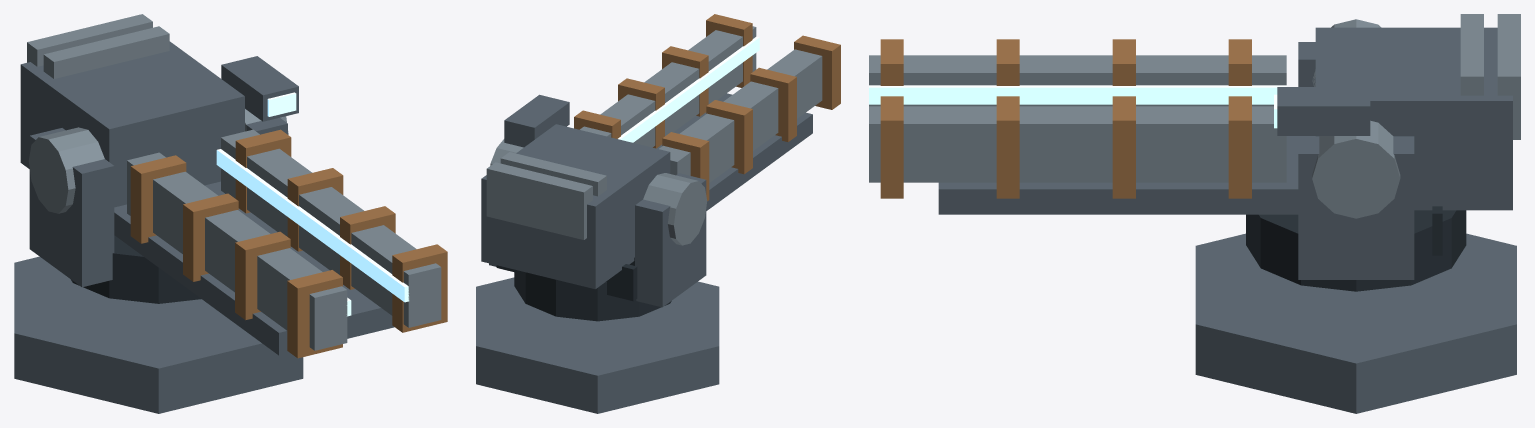
Rendered from railgun_t1_d0.meshopt.glb.
3 views of the same model, side by side, from view 1: azimuth 30°, elevation 25°; view 2: azimuth 150°, elevation 25°; view 3: azimuth 270°, elevation 25° (orthographic). The views are drawn at different scales.
Visible parts, largest first — view 1: RECOIL_ARMOR_GEOMETRY, BASE_ARMOR_GEOMETRY, YAW_ARMOR_GEOMETRY, RECOIL_SIGNAL_GEOMETRY; view 2: RECOIL_ARMOR_GEOMETRY, BASE_ARMOR_GEOMETRY, YAW_ARMOR_GEOMETRY, RECOIL_SIGNAL_GEOMETRY; view 3: RECOIL_ARMOR_GEOMETRY, BASE_ARMOR_GEOMETRY, YAW_ARMOR_GEOMETRY, RECOIL_SIGNAL_GEOMETRY.
Part boxes in pixels (x1,y1,x2,y2): RECOIL_ARMOR_GEOMETRY: (20,14,447,358); BASE_ARMOR_GEOMETRY: (14,256,303,413); YAW_ARMOR_GEOMETRY: (29,117,287,303); RECOIL_SIGNAL_GEOMETRY: (216,92,409,316); RECOIL_ARMOR_GEOMETRY: (481,14,840,301); BASE_ARMOR_GEOMETRY: (476,277,719,413); YAW_ARMOR_GEOMETRY: (489,173,706,321); RECOIL_SIGNAL_GEOMETRY: (618,36,759,142); RECOIL_ARMOR_GEOMETRY: (869,14,1520,255); BASE_ARMOR_GEOMETRY: (1195,233,1516,413); YAW_ARMOR_GEOMETRY: (1246,42,1466,291); RECOIL_SIGNAL_GEOMETRY: (869,85,1286,128).
Size of the model in its own units: 1.6 by 1.38 by 2.81.
